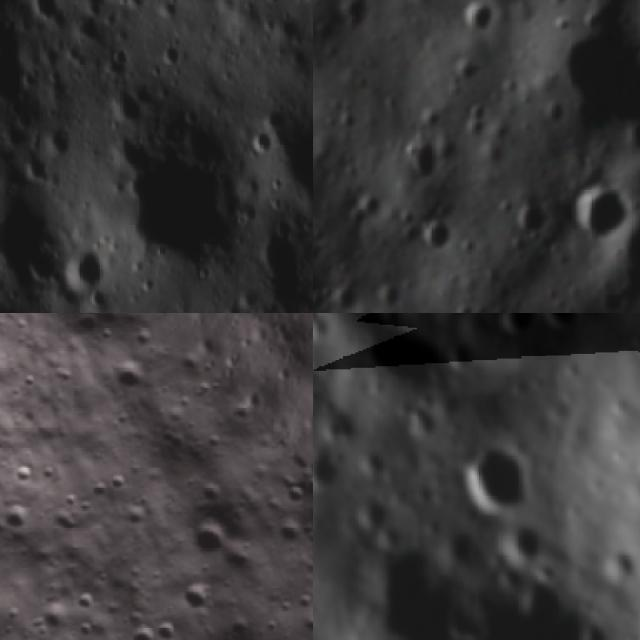crater: (117, 133, 248, 270), (524, 2, 640, 151), (457, 571, 614, 640), (458, 442, 540, 507), (0, 10, 49, 115), (568, 179, 635, 248), (283, 507, 313, 640), (506, 197, 554, 251), (452, 0, 512, 42), (69, 242, 116, 295), (413, 210, 461, 261), (494, 515, 544, 561), (176, 577, 223, 624), (405, 138, 446, 190), (110, 357, 156, 403), (187, 524, 232, 569), (48, 507, 90, 548), (352, 491, 396, 528), (192, 475, 232, 515), (489, 313, 543, 342), (103, 465, 142, 505), (313, 438, 343, 490), (539, 313, 594, 341), (70, 586, 109, 624), (44, 124, 81, 162), (172, 349, 209, 386), (35, 600, 72, 636), (354, 446, 391, 482), (332, 0, 373, 30), (201, 429, 235, 464), (282, 480, 313, 514), (148, 615, 187, 640), (7, 459, 38, 490), (270, 520, 300, 552), (74, 314, 102, 344), (132, 330, 160, 359), (228, 404, 254, 430), (36, 460, 62, 486), (59, 489, 83, 514), (89, 483, 112, 506), (96, 326, 119, 349), (76, 498, 99, 520), (131, 628, 160, 640)
